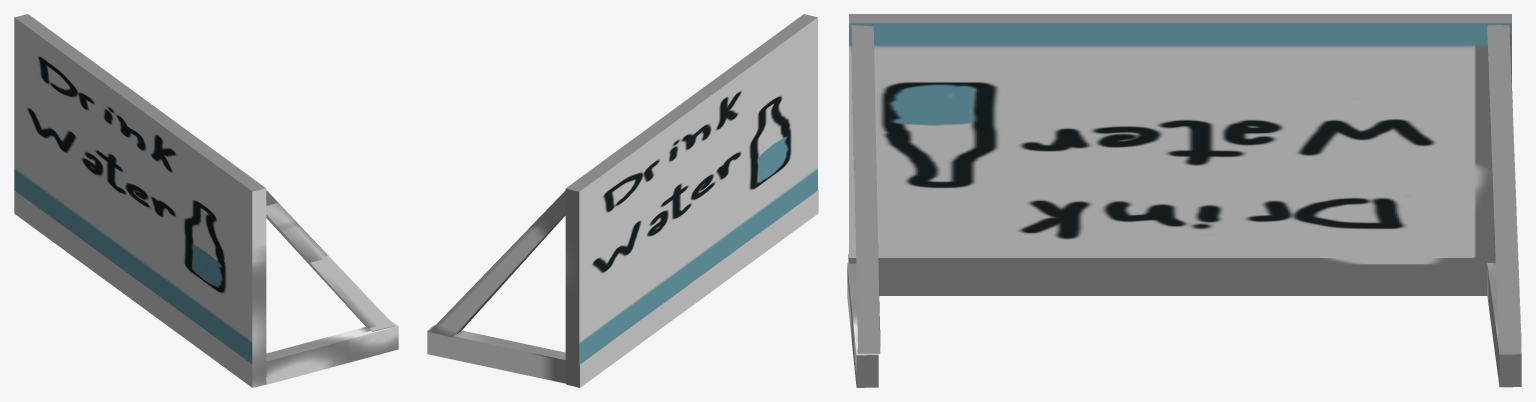
Rendered from outdoor prediotexturadrinkwater.fbx.
3 renders of one model, left to right at view 1: azimuth 30°, elevation 25°; view 2: azimuth 150°, elevation 25°; view 3: azimuth 270°, elevation 25°, orthographic. The views are drawn at different scales.
Parts seen in each view (by area): view 1: Cube.002; view 2: Cube.002; view 3: Cube.002.
Boxes of the visible parts, left/top/right/bottom form: Cube.002: left=14, top=14, right=398, bottom=387; Cube.002: left=427, top=14, right=818, bottom=387; Cube.002: left=847, top=14, right=1521, bottom=387.
Size of the model in its own units: 358 by 450 by 1007.
